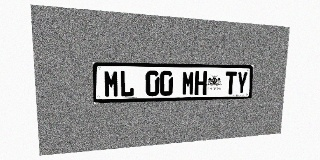0: (146, 71, 159, 96), (160, 71, 173, 96)
H: (194, 71, 207, 95)
L: (119, 70, 134, 97)
M: (104, 70, 119, 97), (182, 71, 195, 96)
T: (225, 71, 237, 94)
Y: (236, 71, 248, 94)
